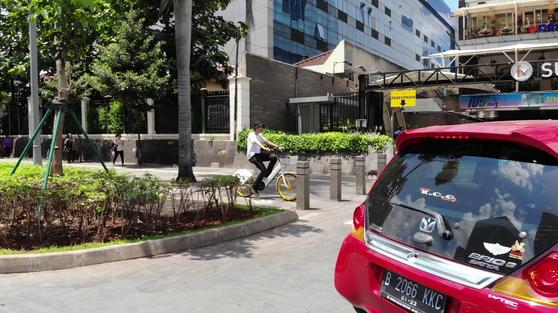bike: (222, 148, 311, 213)
